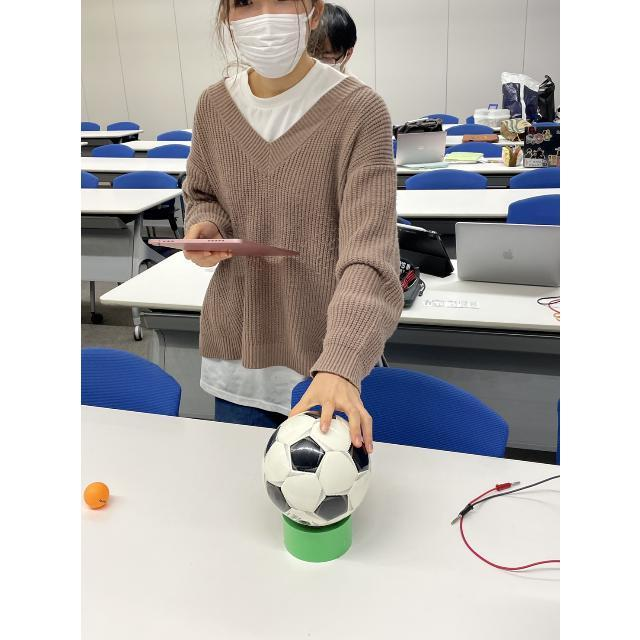ball: (262, 409, 368, 525)
